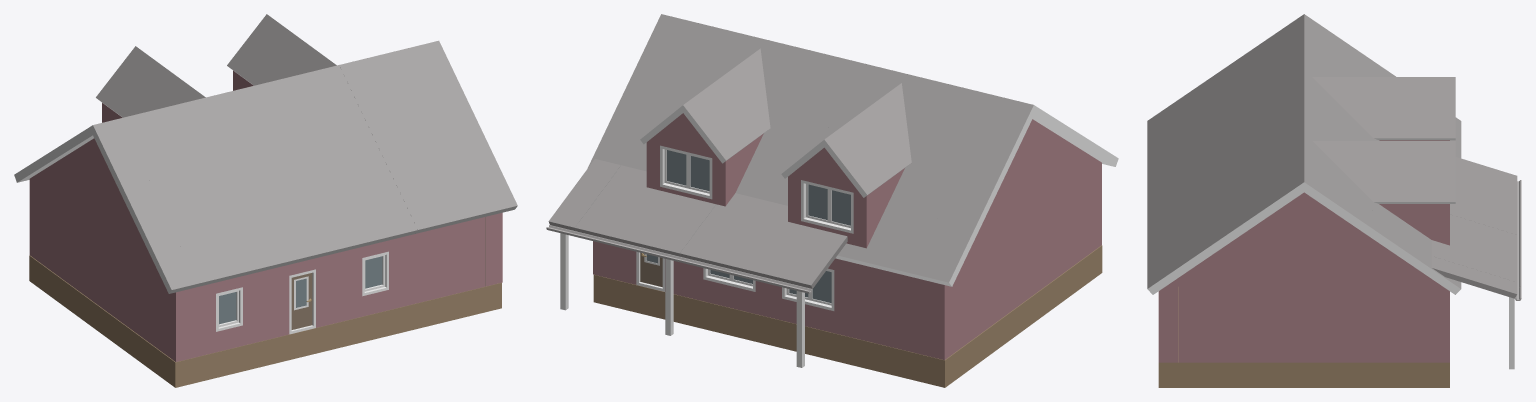
The model's file is House3.fbx.
3 renders of one model, left to right at view 1: azimuth 30°, elevation 25°; view 2: azimuth 150°, elevation 25°; view 3: azimuth 270°, elevation 25°, orthographic. The views are drawn at different scales.
Parts seen in each view (by area): view 1: Cube__11_.003; view 2: Cube__11_.003; view 3: Cube__11_.003.
Boxes of the visible parts, x1=… form: Cube__11_.003: x1=14, y1=14, x2=517, y2=387; Cube__11_.003: x1=546, y1=14, x2=1118, y2=387; Cube__11_.003: x1=1147, y1=14, x2=1521, y2=387.
Bounding box in the file's own units: 1427 × 834 × 1343.
